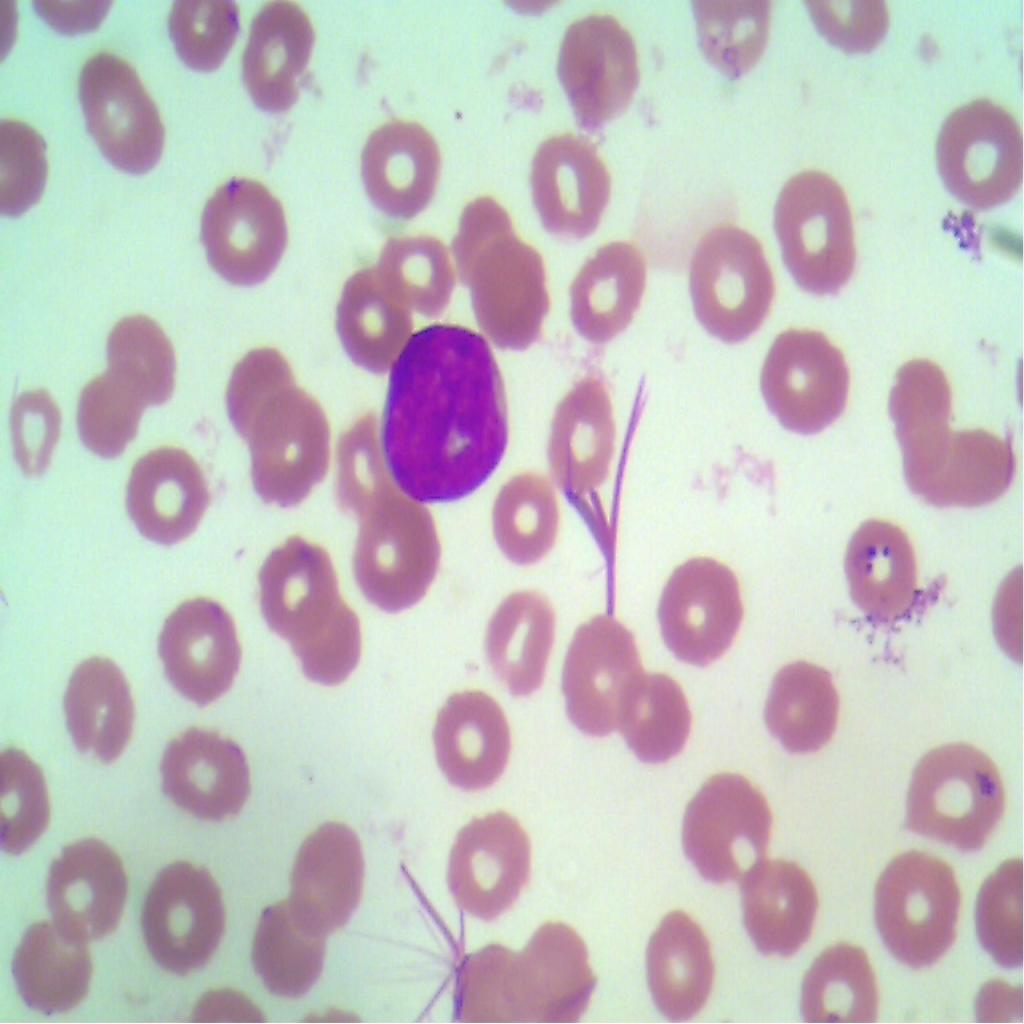Eritrosit: (646, 532, 751, 672), (764, 158, 864, 304), (748, 318, 853, 457), (924, 72, 1023, 218), (73, 51, 176, 185), (431, 797, 536, 925), (515, 108, 613, 244), (190, 168, 298, 290), (678, 215, 776, 348), (839, 508, 935, 638), (536, 360, 621, 506), (619, 903, 722, 1023), (346, 111, 448, 230), (675, 758, 768, 888), (48, 646, 143, 772), (908, 728, 1002, 854), (876, 845, 964, 978), (148, 584, 242, 707), (136, 856, 226, 982), (118, 435, 210, 557), (354, 506, 446, 628), (290, 818, 382, 936), (556, 602, 642, 728), (238, 890, 333, 1004), (42, 824, 126, 950), (159, 728, 258, 834), (550, 18, 646, 124), (762, 642, 840, 770), (918, 418, 1016, 519), (566, 221, 644, 344), (3, 371, 75, 504), (428, 687, 514, 798), (732, 852, 822, 958), (254, 522, 334, 639), (328, 405, 402, 530), (333, 260, 415, 371), (474, 239, 550, 358), (610, 669, 698, 771), (255, 390, 331, 508), (368, 225, 462, 319), (888, 352, 958, 478), (11, 924, 104, 1018), (241, 0, 319, 108), (482, 580, 555, 694), (0, 738, 62, 867), (216, 345, 304, 435), (484, 465, 558, 572), (103, 304, 175, 407), (295, 595, 368, 696), (795, 935, 876, 1023), (452, 192, 518, 295), (74, 364, 143, 458), (169, 0, 239, 78)
Limfoblast: (375, 304, 513, 505)
Platelet: (863, 538, 879, 568)
